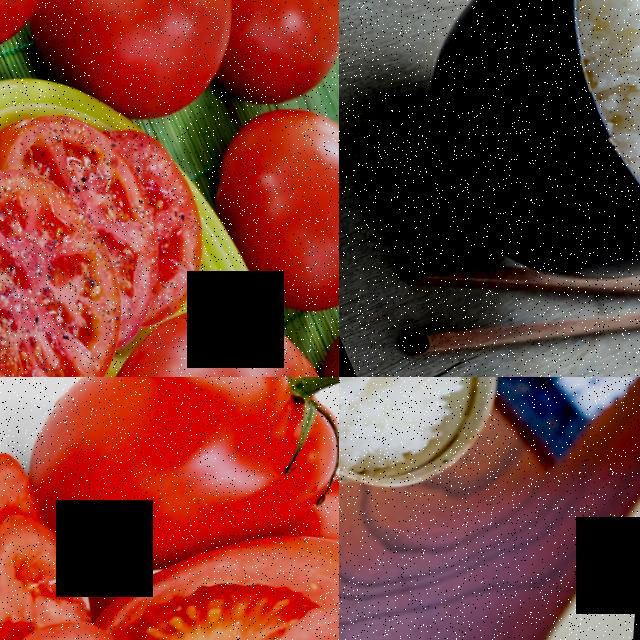tomato: (0, 377, 339, 625), (56, 472, 339, 640), (0, 0, 276, 160), (183, 67, 339, 335), (62, 258, 339, 377)
white rice: (339, 377, 507, 484)
